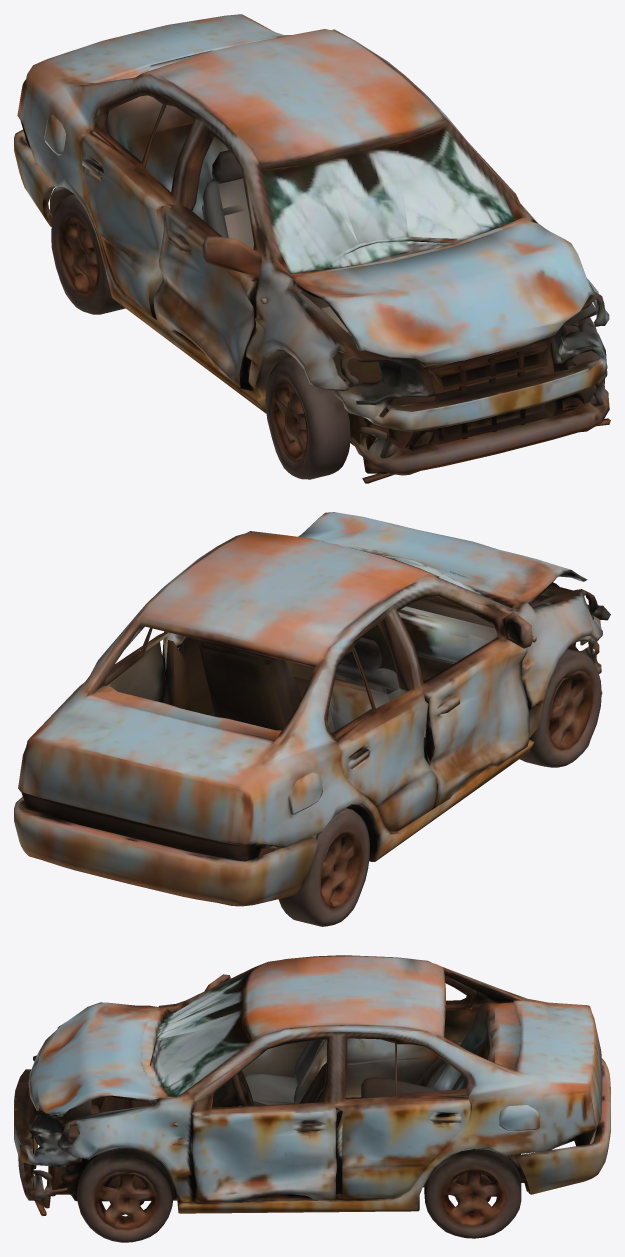
Rendered from rusty_crashed_car_15ba74d2_v2.glb.
3 views of the same model, one above another, from view 1: azimuth 30°, elevation 25°; view 2: azimuth 150°, elevation 25°; view 3: azimuth 270°, elevation 25° (orthographic). The views are drawn at different scales.
Visible parts, largest first — view 1: material; view 2: material; view 3: material.
Part boxes in pixels (left/top/right/bottom): material: left=14, top=14, right=610, bottom=483; material: left=14, top=512, right=610, bottom=926; material: left=14, top=955, right=610, bottom=1242.
Bounding box in the file's own units: 0.9022 × 0.7049 × 1.9.
Materials: 1 (1 with a texture image).
